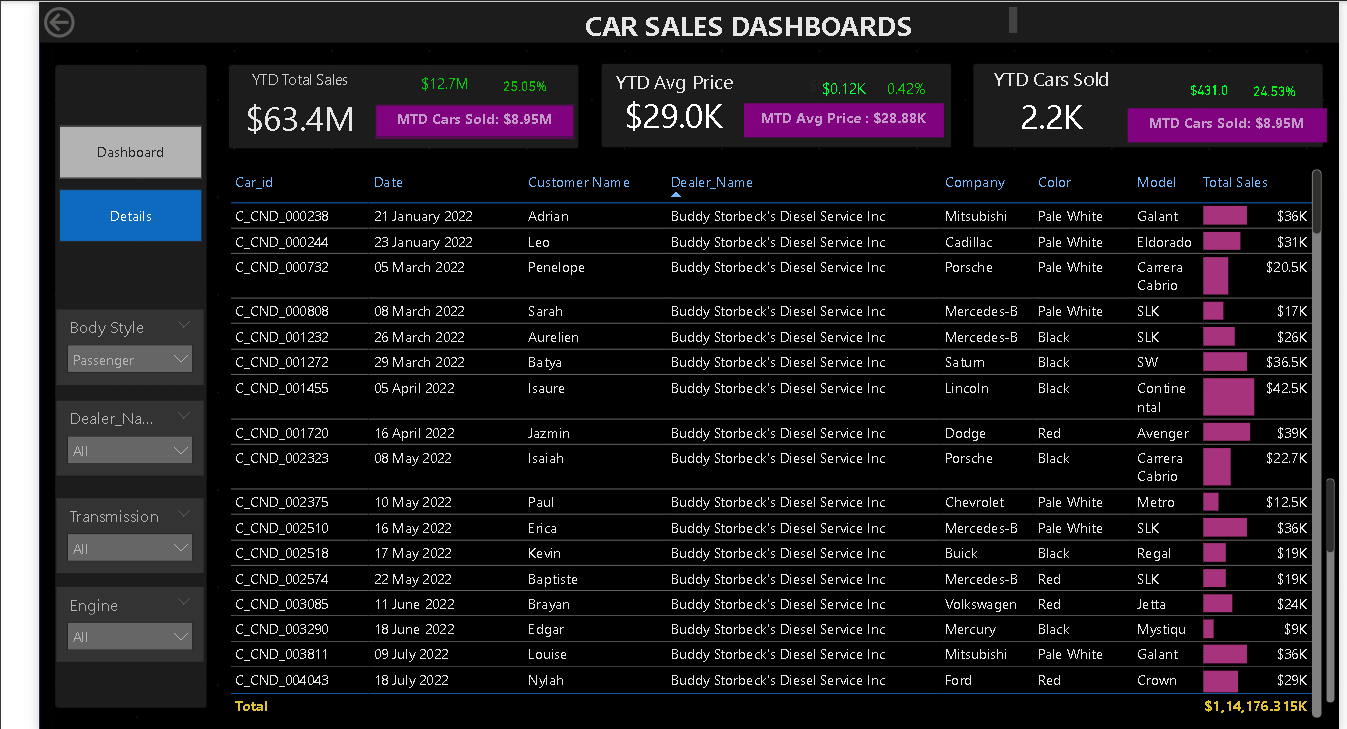

This screenshot's page, from the dashboard's own definition file:
{"tool":"powerbi","page":{"name":"Details","canvas":[1280,720],"ordinal":1},"visuals":[{"type":"card","title":"YTD Total Sales","fields":{"Values":["date calender.Total YTD sales"]},"box":[180.9,65.4,153,79.3],"z":0},{"type":"card","fields":{"Values":["date calender.sales difference"]},"box":[357.6,67.9,83.5,27.8],"z":1000},{"type":"card","fields":{"Values":["date calender.Year over year growth"]},"box":[434.6,64,87.7,40.3],"z":2000},{"type":"card","title":"YTD Avg Price","fields":{"Values":["date calender.Average of YTD"]},"box":[528.4,65.1,194.8,68.2],"z":3000},{"type":"card","fields":{"Values":["date calender.Average of MTD"]},"box":[749.9,583,279.7,103],"z":4000},{"type":"card","fields":{"Values":["date calender.Diffrence of YTD and PYTD"]},"box":[740.2,64,80.7,40.3],"z":5000},{"type":"card","fields":{"Values":["date calender.YOY growth"]},"box":[816.7,64,73.7,47.3],"z":6000},{"type":"card","fields":{"Values":["date calender.MTD KPI"]},"box":[330.6,101.3,196.2,33.4],"z":7000},{"type":"card","fields":{"Values":["date calender.YOY Final"]},"box":[968.3,499.5,279.7,50.1],"z":8000},{"type":"areaChart","title":"YTD Sales Weekly Trend","fields":{"Category":["date calender.week"],"Y":["car_data.Price ($)","date calender.Max Point"]},"box":[219.8,167,457.7,251.8],"z":9000},{"type":"donutChart","fields":{"Y":["date calender.Total YTD sales"],"Category":["car_data.Color"]},"box":[982.3,189.2,285.2,229.6],"z":10000},{"type":"donutChart","fields":{"Y":["date calender.Total YTD sales"],"Category":["car_data.Body Style"]},"box":[668.3,199.4,304,230.2],"z":11000},{"type":"multiRowCard","fields":{"Values":["car_data.Dealer_Region","date calender.Total YTD sales"]},"box":[182.3,442.4,457.7,253.2],"z":12000},{"type":"tableEx","title":"Company wise Sales Trend","fields":{"Values":["car_data.Company","date calender.YTD Avg Price","date calender.YTD Cars Sold","date calender.Total YTD sales","Divide(date calender.Total YTD sales, ScopedEval(date calender.Total YTD sales, []))"]},"box":[677.6,442.4,602.4,253.2],"z":13000},{"type":"actionButton","box":[0,0,100,40],"z":14000},{"type":"textbox","box":[429.9,0,538.4,40.3],"z":15000},{"type":"slicer","title":"Body Style","fields":{"Values":["car_data.Body Style"]},"box":[16.7,302.5,144.7,74.6],"z":16000},{"type":"slicer","title":"Body Style","fields":{"Values":["car_data.Dealer_Name"]},"box":[16.7,392.3,144.7,73.7],"z":17000},{"type":"slicer","title":"Body Style","fields":{"Values":["car_data.Transmission"]},"box":[16.7,488.3,144.7,73.7],"z":18000},{"type":"slicer","title":"Body Style","fields":{"Values":["car_data.Engine"]},"box":[16.7,576,144.7,73.7],"z":19000},{"type":"pageNavigator","box":[19.5,122.4,141.9,114.9],"z":20000},{"type":"card","fields":{"Values":["date calender.MTD KPI average"]},"box":[694.2,99.7,196.9,33.2],"z":21000},{"type":"card","fields":{"Values":["date calender.Diffrence of YTD and PYTD"]},"box":[758.2,51.7,70.2,71.4],"z":22000},{"type":"card","fields":{"Values":["date calender.Difference of YTD and PYTD  final"]},"box":[1124.9,70.2,55.4,35.7],"z":23000},{"type":"card","title":"YTD Cars Sold","fields":{"Values":["date calender.YTD Cars Sold"]},"box":[923.1,62.8,148.9,75.1],"z":24000},{"type":"card","fields":{"Values":["date calender.YOY Final"]},"box":[1180.3,62.8,72.6,54.2],"z":25000},{"type":"card","fields":{"Values":["date calender.MTD KPI"]},"box":[1072,104.6,195.7,33.2],"z":26000},{"type":"card","fields":{"Values":["date calender.MTD KPI average"]},"box":[1027.7,219.1,195.7,33.2],"z":28000},{"type":"tableEx","fields":{"Values":["car_data.Car_id","car_data.Date","car_data.Customer Name","car_data.Dealer_Name","car_data.Company","car_data.Color","car_data.Model","car_data.total sales"]},"box":[182.2,160,1085.5,550.2],"z":29000}]}

Visuals, with their boxes on the page's 1280x720 design canvas (x1, y1, x2, y2). These are canvas units, not pixel positions in the 1347x729 screenshot, which may show the page scaled, cropped or inside an application window:
"YTD Total Sales" card: 181:65:334:145
card - date calender.sales difference: 358:68:441:96
card - date calender.Year over year growth: 435:64:522:104
"YTD Avg Price" card: 528:65:723:133
card - date calender.Average of MTD: 750:583:1030:686
card - date calender.Diffrence of YTD and PYTD: 740:64:821:104
card - date calender.YOY growth: 817:64:890:111
card - date calender.MTD KPI: 331:101:527:135
card - date calender.YOY Final: 968:500:1248:550
"YTD Sales Weekly Trend" areaChart: 220:167:678:419
donutChart - date calender.Total YTD sales x car_data.Color: 982:189:1268:419
donutChart - date calender.Total YTD sales x car_data.Body Style: 668:199:972:430
multiRowCard - car_data.Dealer_Region x date calender.Total YTD sales: 182:442:640:696
"Company wise Sales Trend" tableEx: 678:442:1280:696
actionButton: 0:0:100:40
textbox: 430:0:968:40
"Body Style" slicer: 17:302:161:377
"Body Style" slicer: 17:392:161:466
"Body Style" slicer: 17:488:161:562
"Body Style" slicer: 17:576:161:650
pageNavigator: 20:122:161:237
card - date calender.MTD KPI average: 694:100:891:133
card - date calender.Diffrence of YTD and PYTD: 758:52:828:123
card - date calender.Difference of YTD and PYTD  final: 1125:70:1180:106
"YTD Cars Sold" card: 923:63:1072:138
card - date calender.YOY Final: 1180:63:1253:117
card - date calender.MTD KPI: 1072:105:1268:138
card - date calender.MTD KPI average: 1028:219:1223:252
tableEx - car_data.Car_id x car_data.Date: 182:160:1268:710
